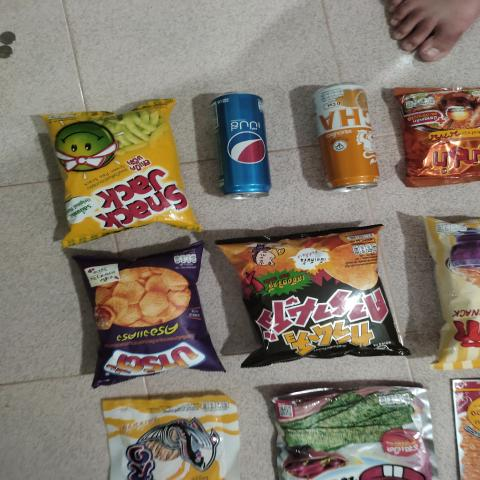karamujo: (246, 237, 384, 356)
mama: (410, 79, 480, 180)
party_purple: (77, 252, 217, 372)
pepsi_blue: (205, 90, 280, 198)
singha_yellow: (305, 84, 387, 198)
snack_jack: (59, 108, 175, 221)
taro_yellow: (118, 403, 230, 480)
